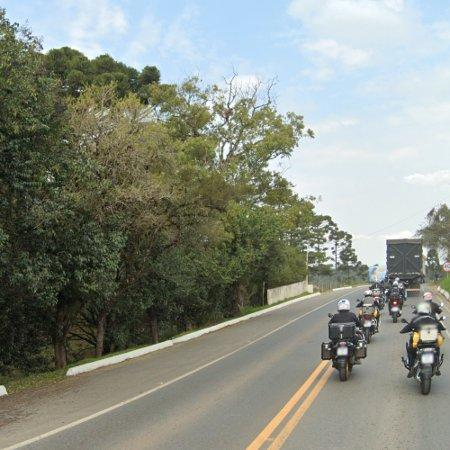motorcycles: (403, 312, 445, 396), (322, 325, 368, 382)
